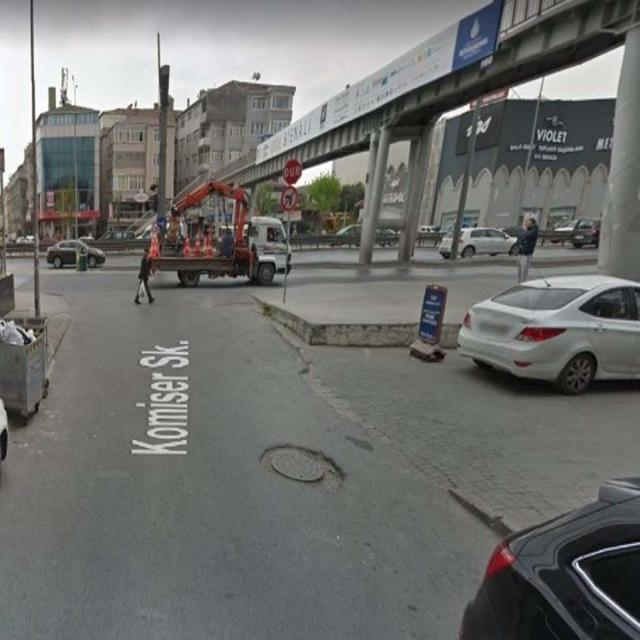dur: (283, 160, 302, 184)
soladonulmez: (280, 185, 298, 211)
